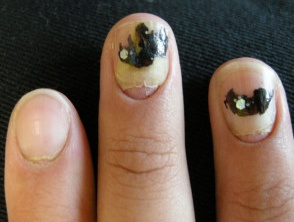SJS-TEN: (106, 9, 183, 108), (206, 70, 294, 156)
